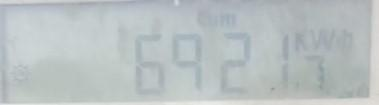.: (294, 27, 356, 55)
0: (292, 80, 301, 91)
2: (279, 33, 293, 95)
3: (213, 31, 254, 96)
7: (132, 29, 168, 98)
8: (301, 54, 328, 92)
:: (171, 31, 206, 96)
